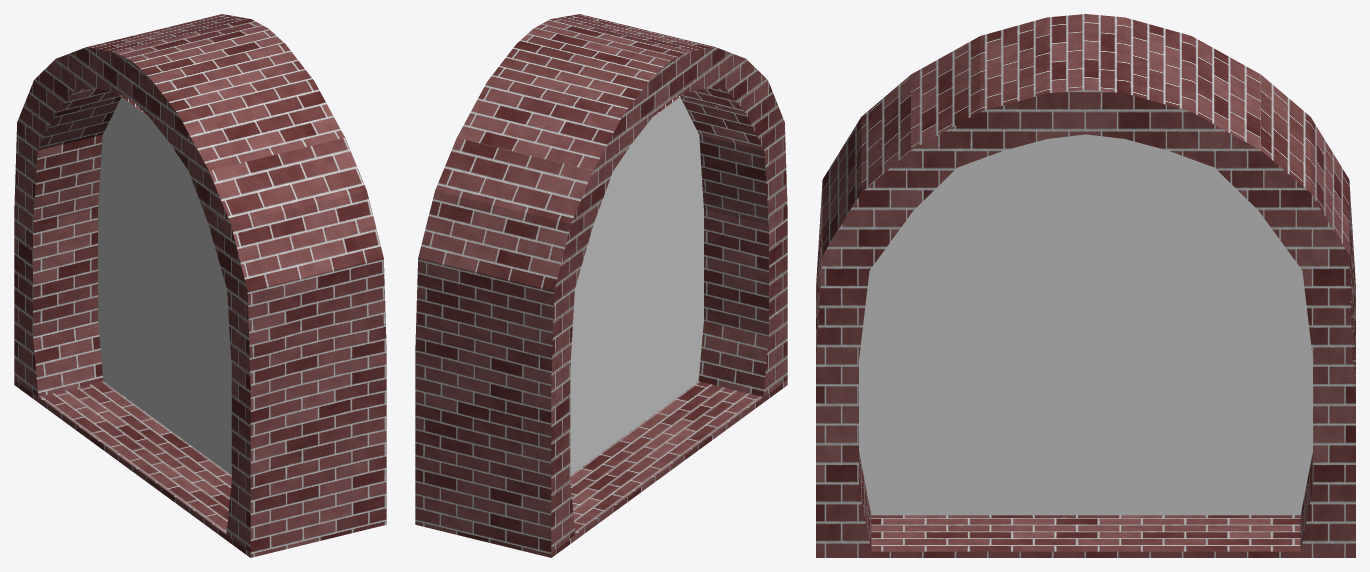
Rendered from portal.gltf.
3 renders of one model, left to right at view 1: azimuth 30°, elevation 25°; view 2: azimuth 150°, elevation 25°; view 3: azimuth 270°, elevation 25°, orthographic. The views are drawn at different scales.
Parts seen in each view (by area): view 1: Cube; view 2: Cube; view 3: Cube.
Part boxes in pixels (x1,y1,x2,y2): Cube: (14, 14, 386, 557); Cube: (415, 14, 787, 557); Cube: (816, 14, 1355, 557).
Bounding box in the file's own units: 1.27 × 3.65 × 3.82.
2 materials, 1 textured.
